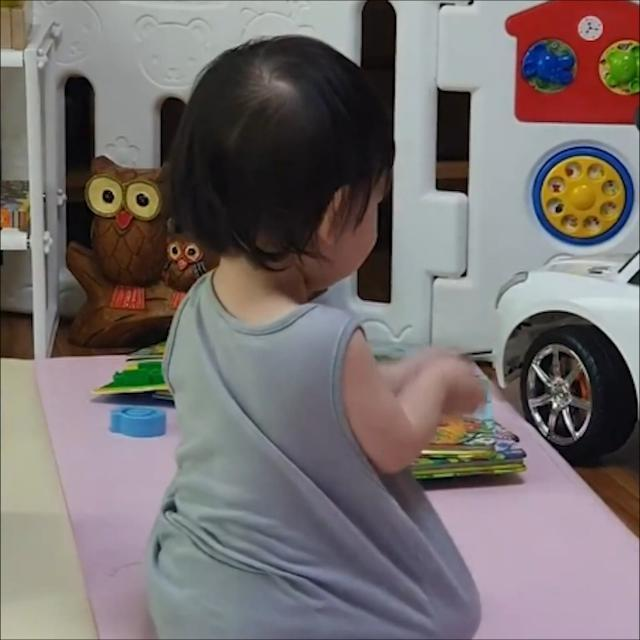child: (140, 29, 491, 640)
